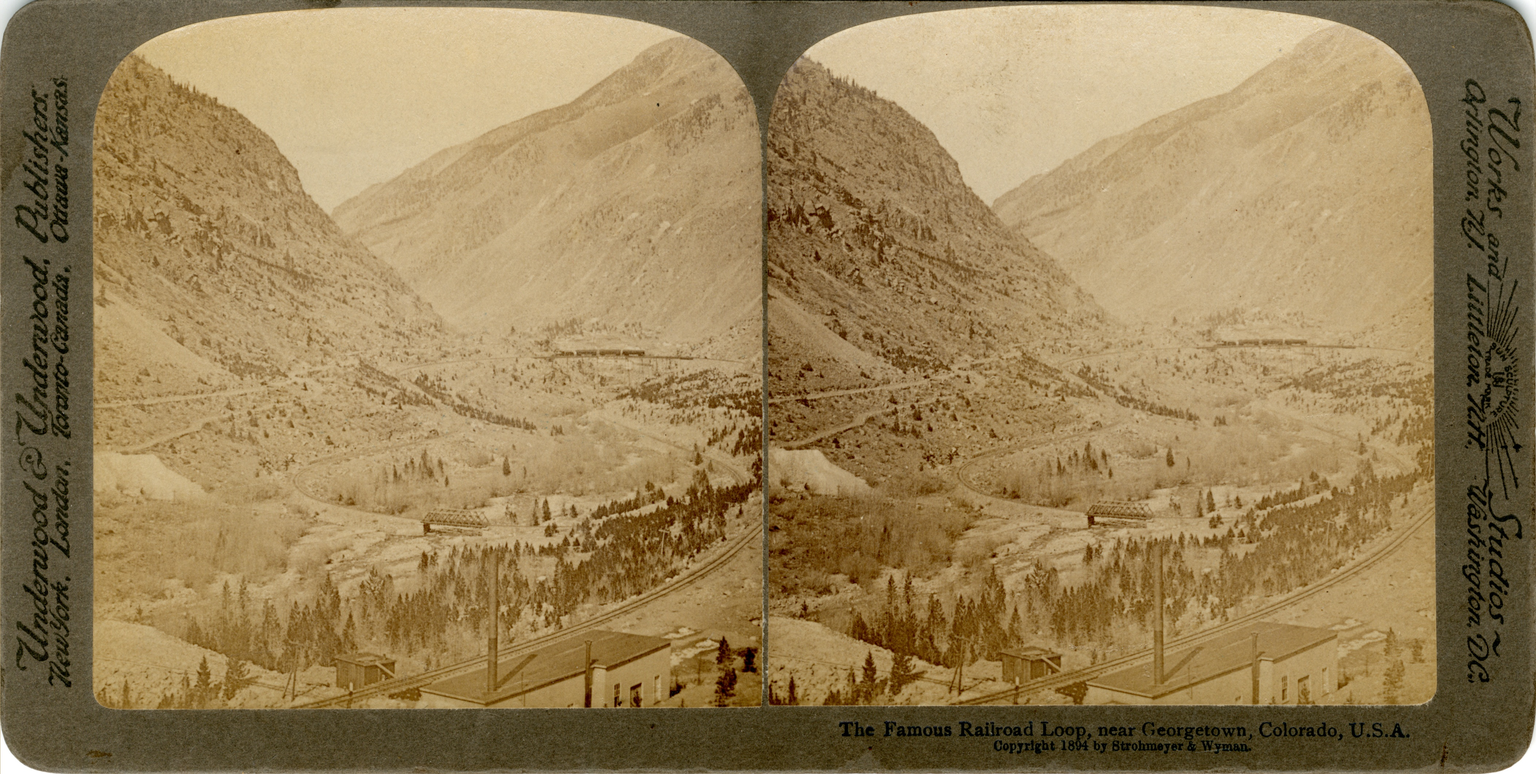half_image: (767, 4, 1437, 706), (94, 7, 763, 710)
